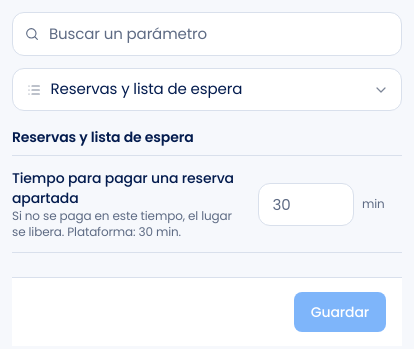
Test: una categoría a la vez (sin scroll largo) › con poco ancho, la categoría se elige en una lista
Select "Recordatorios" in the dropdown named "Categorías de parámetros": [207, 90] box x1=12 y1=68 x2=402 y2=112
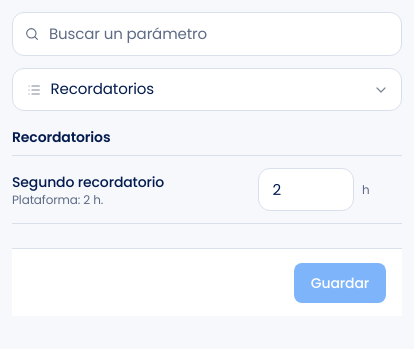
Check: the number field with class "segundo_horas" is shown, box x1=258 y1=168 x2=354 y2=211
